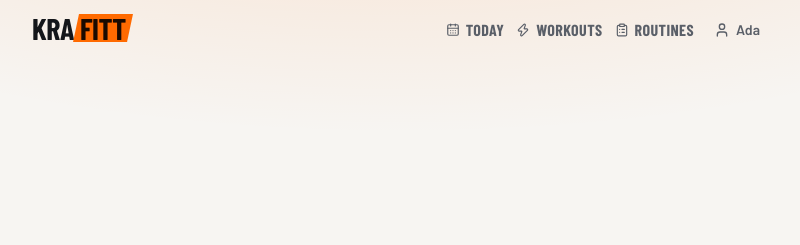
NavBar › offers a single settings control, never one per breakpoint
Click the button with aria-label "Menu": (737, 30) [706, 12, 768, 48]
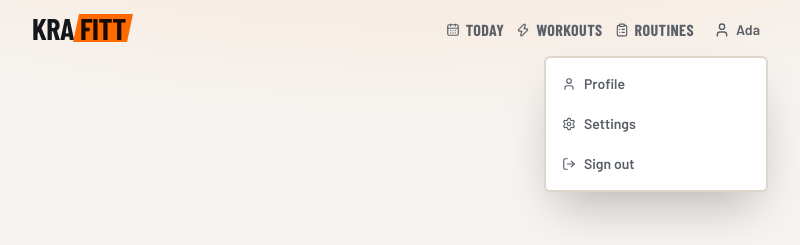
Expected: the number of buttons "Settings" is 1, [554, 106, 758, 142]
